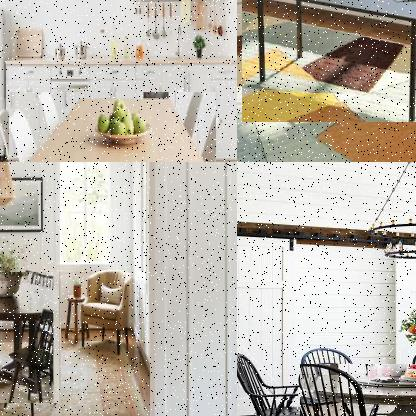table: (241, 0, 415, 123), (8, 92, 218, 161), (0, 272, 63, 405), (299, 363, 415, 415)
